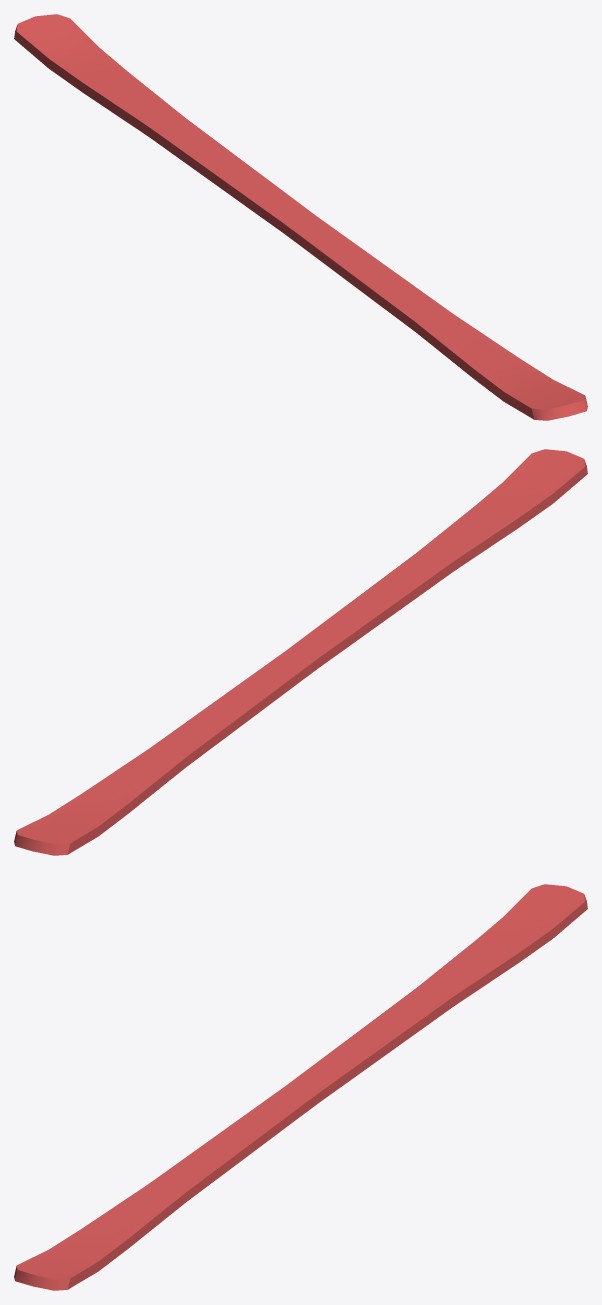
Rendered from SkiPerson.fbx.
3 renders of one model, top to bottom at view 1: azimuth 30°, elevation 25°; view 2: azimuth 150°, elevation 25°; view 3: azimuth 330°, elevation 25°, orthographic.
Parts seen in each view (by area): view 1: ski_solo; view 2: ski_solo; view 3: ski_solo.
Boxes of the visible parts, x1,y1,x2,y2 form: ski_solo: (14,14,587,420); ski_solo: (14,449,587,855); ski_solo: (14,884,587,1290).
Size of the model in its own units: 14.78 by 5.16 by 256.
